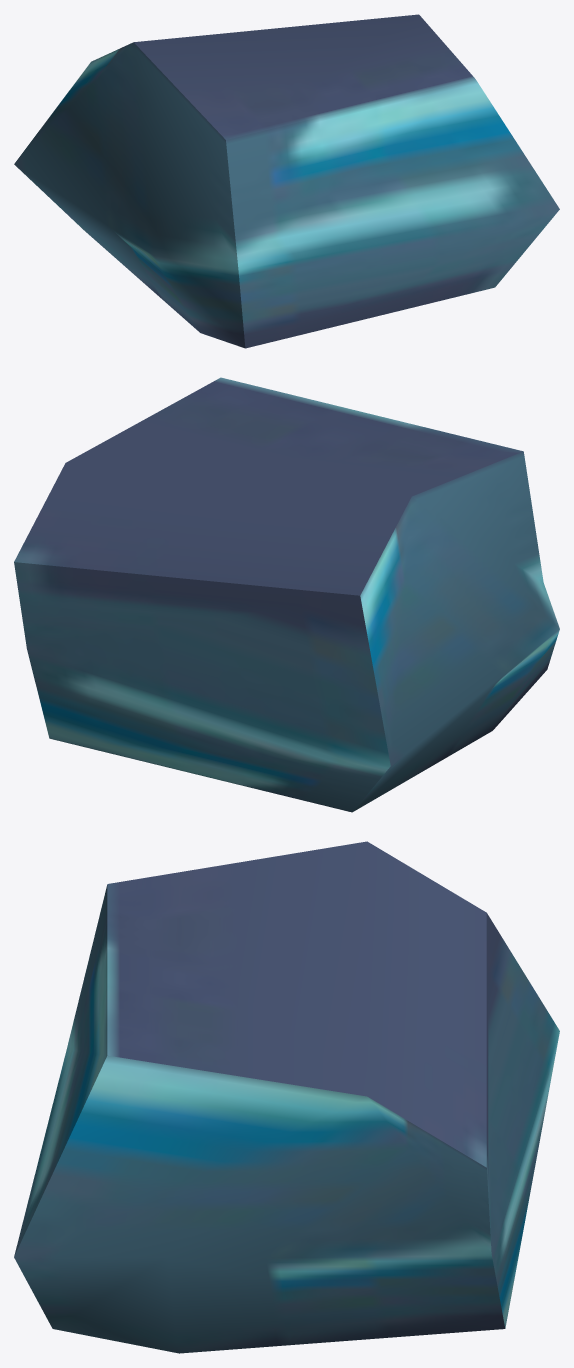
Rendered from BlueRock.fbx.
The picture shows the model from 3 angles, top to bottom: view 1: azimuth 30°, elevation 25°; view 2: azimuth 150°, elevation 25°; view 3: azimuth 270°, elevation 25°; orthographic projection. The views are drawn at different scales.
Visible parts, largest first — view 1: pCube1; view 2: pCube1; view 3: pCube1.
Part boxes in pixels (bbox=[...]): pCube1: bbox=[14, 14, 559, 348]; pCube1: bbox=[14, 377, 559, 812]; pCube1: bbox=[14, 841, 559, 1353].
Bounding box in the file's own units: 1.41 × 0.9258 × 1.35.
1 material, 1 textured.
